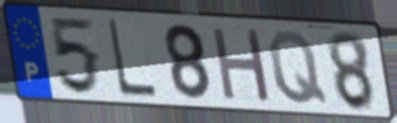5: (45, 14, 104, 96)
8: (325, 27, 378, 114), (162, 21, 213, 103)
H: (209, 25, 274, 105)
L: (104, 17, 160, 101)
Q: (265, 28, 331, 107)
